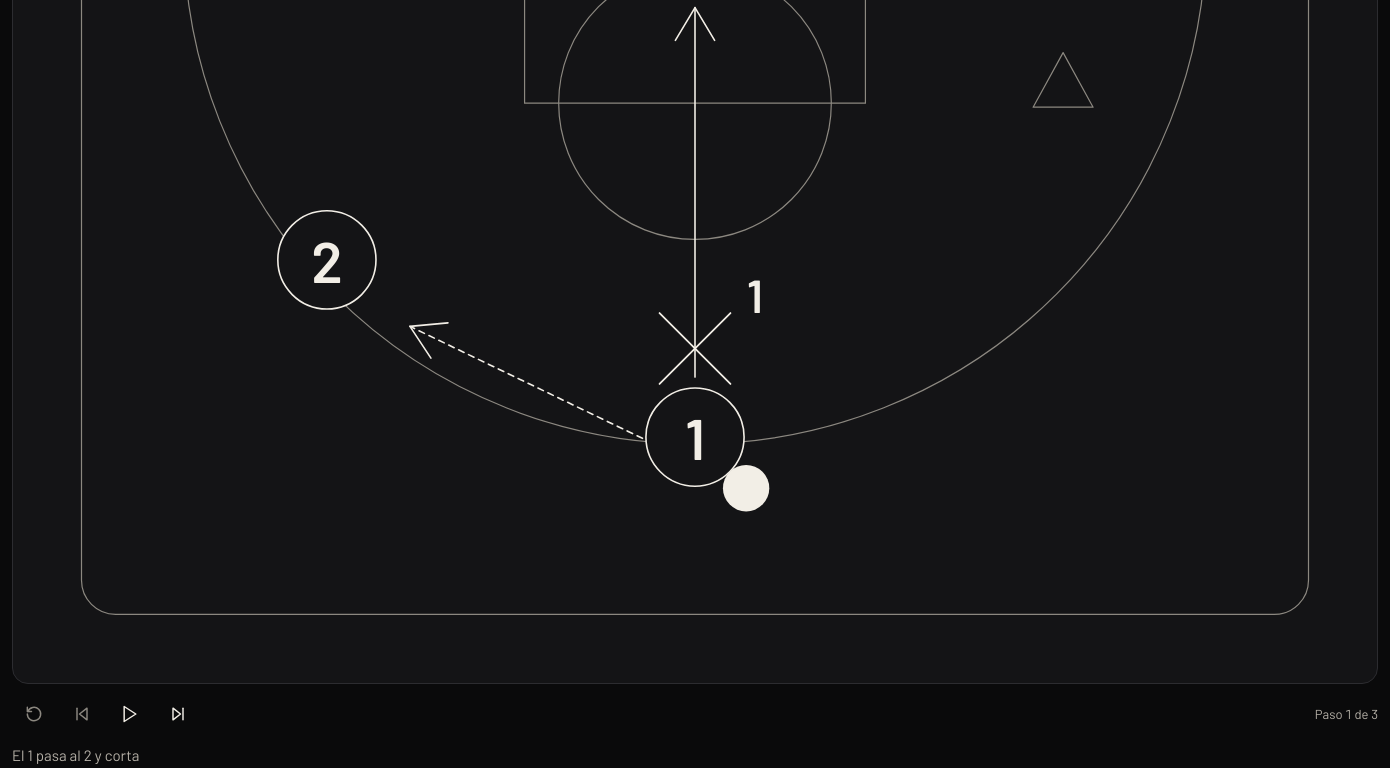
Scenario: Board, con pasos › en el último paso, «Paso siguiente» lleva al final: cada ficha donde acaba y sin movimientos
The width and height of the screenshot is (1390, 768).
(page scrolled)
Click the button named "Paso siguiente" at (178, 714), box [156,692,200,736]
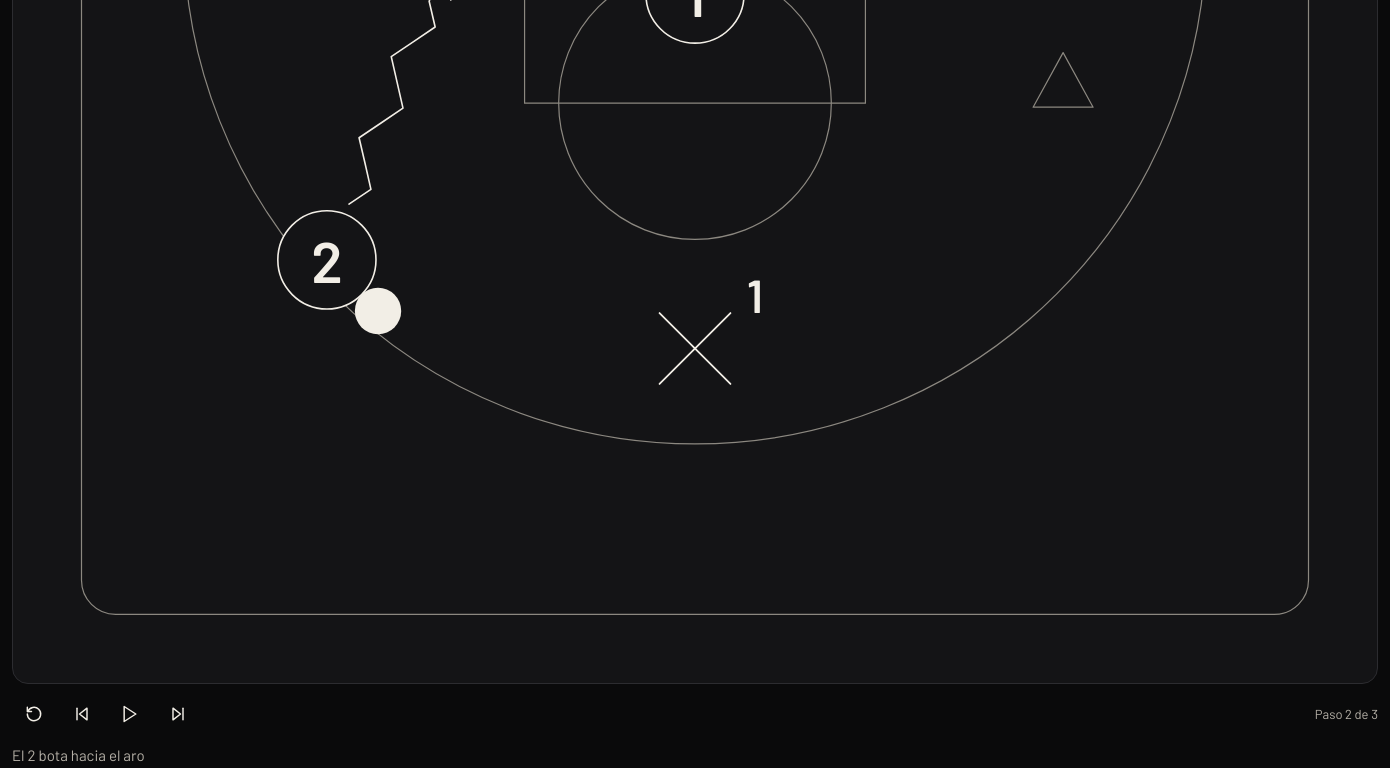
Click the button named "Paso siguiente" at (178, 714), box [156,692,200,736]
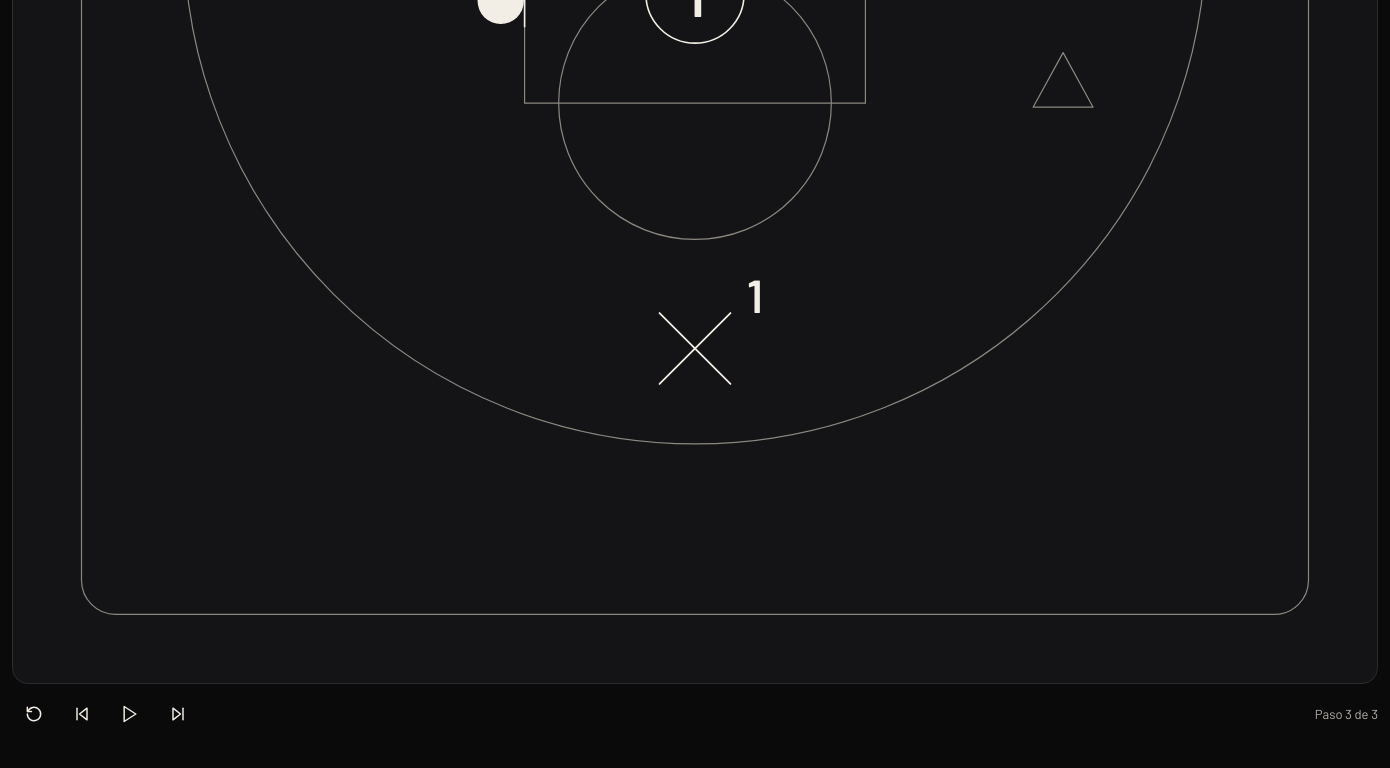
Click the button named "Paso siguiente" at (178, 714), box [156,692,200,736]
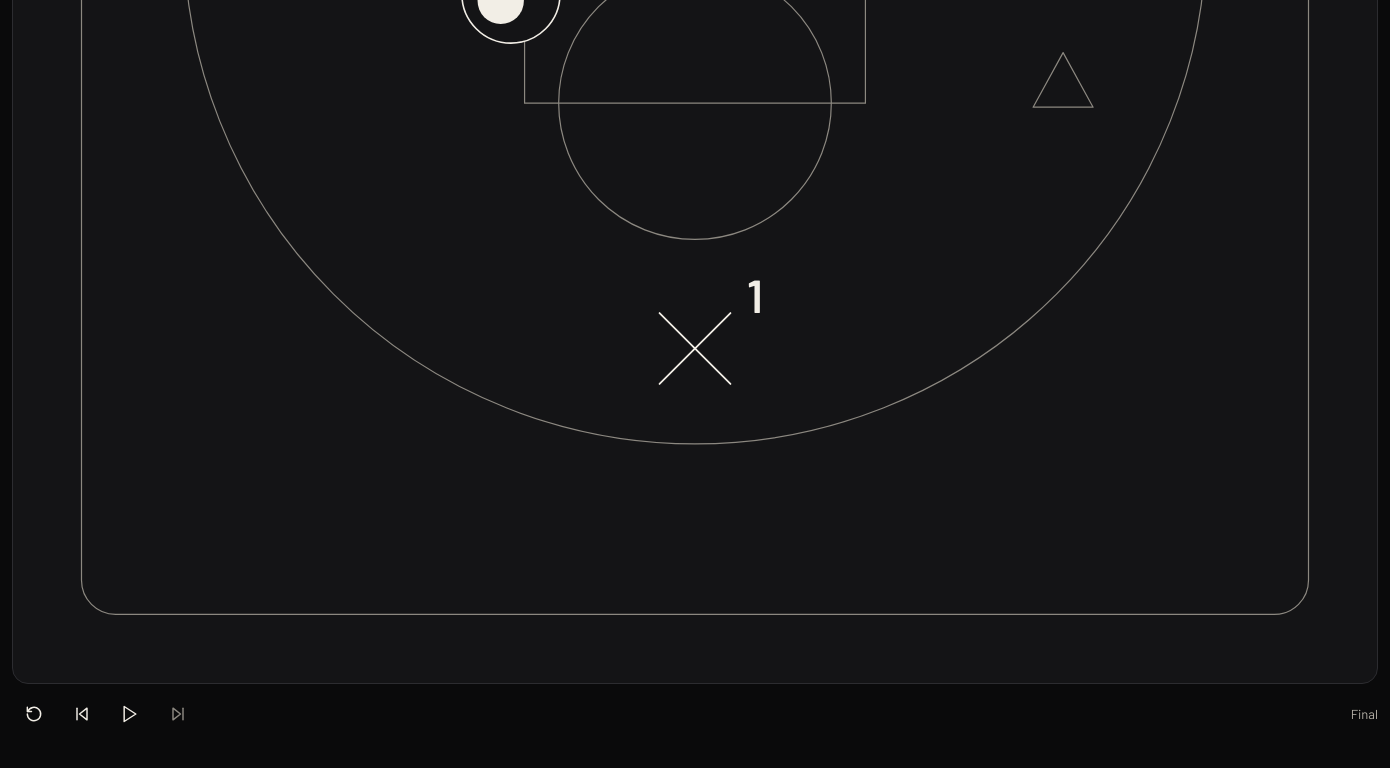
Expected: the 2nd message is empty, [12,744,1378,767]
Result: the text "Final" is shown at [1351,704,1378,722]
Result: the text "Paso 3 de 3" is gone
